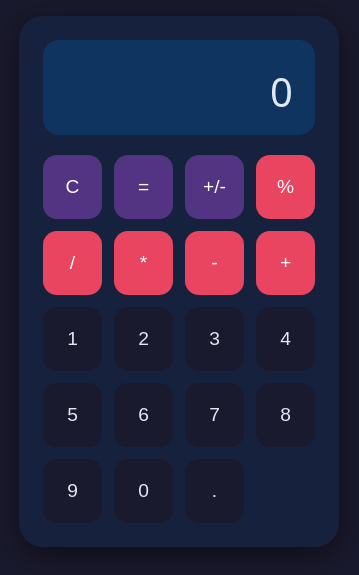
it: Calculator › clears display after pressing an operation
The image size is (359, 575).
Step 1. Click the button "1" → {"x": 72, "y": 338}, box [43, 306, 102, 370]
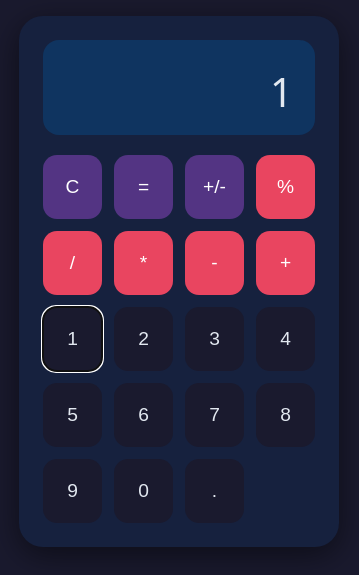
Step 2. Click the button "2" → {"x": 144, "y": 338}, box [114, 306, 173, 370]
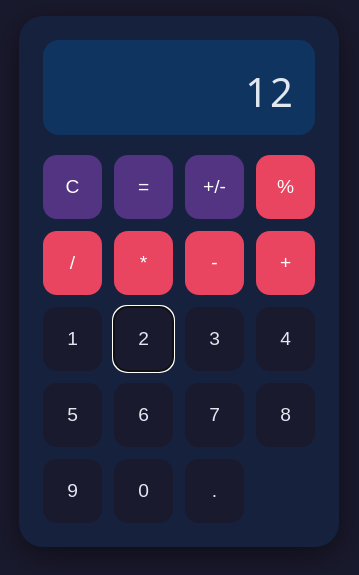
Step 3. Click the button "+" → {"x": 286, "y": 262}, box [256, 230, 315, 294]
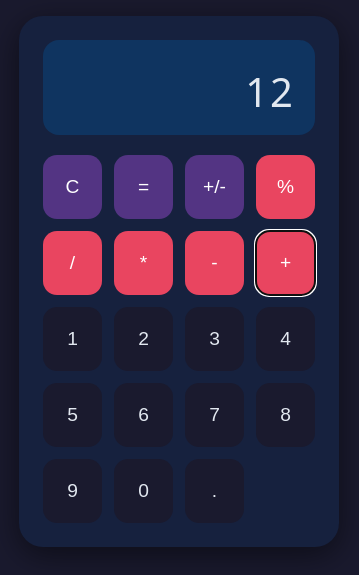
Step 4. Click the button "7" → {"x": 214, "y": 414}, box [185, 382, 244, 446]
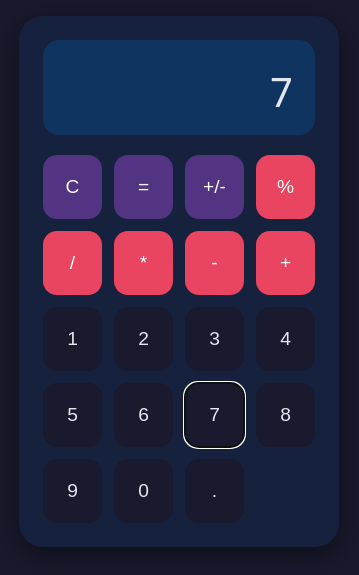
Check: the text named "calculator display" reads "7", box [270, 64, 295, 118]
